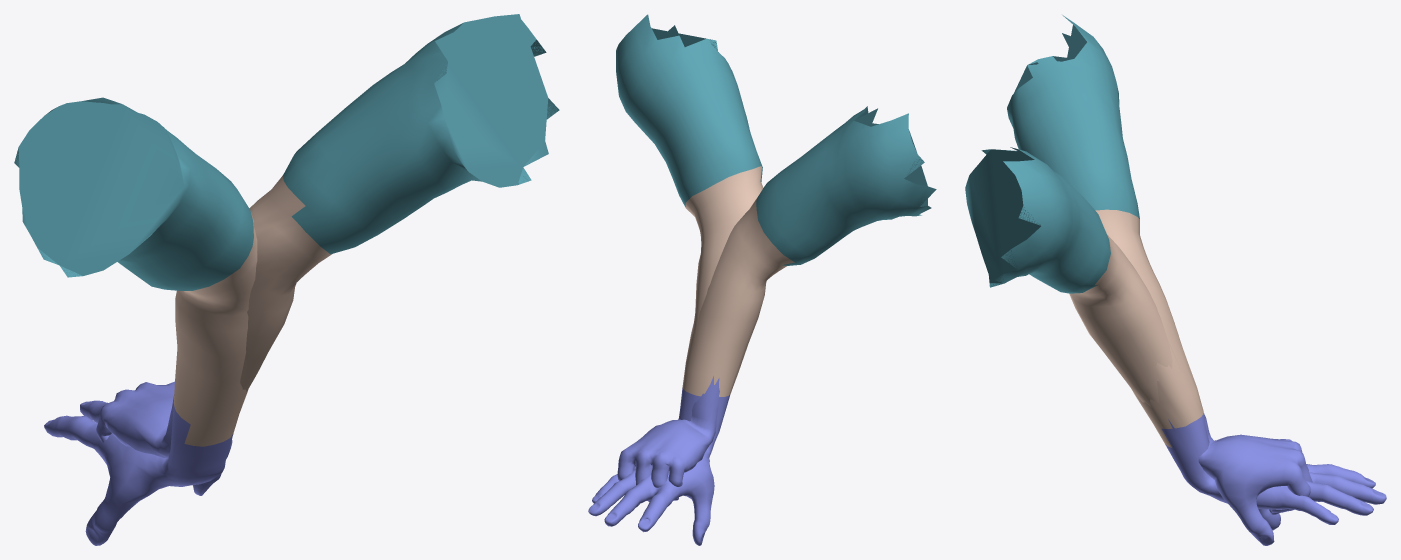
Rendered from mains_rcp.glb.
The picture shows the model from 3 angles, left to right: view 1: azimuth 30°, elevation 25°; view 2: azimuth 150°, elevation 25°; view 3: azimuth 270°, elevation 25°; orthographic projection. The views are drawn at different scales.
Parts seen in each view (by area): view 1: mains_rcp; view 2: mains_rcp; view 3: mains_rcp.
Boxes of the visible parts, <box> form: mains_rcp: <box>14,14,559,545</box>; mains_rcp: <box>588,14,936,545</box>; mains_rcp: <box>965,15,1386,545</box>.
Bounding box in the file's own units: 0.5057 × 0.5764 × 0.4757.
